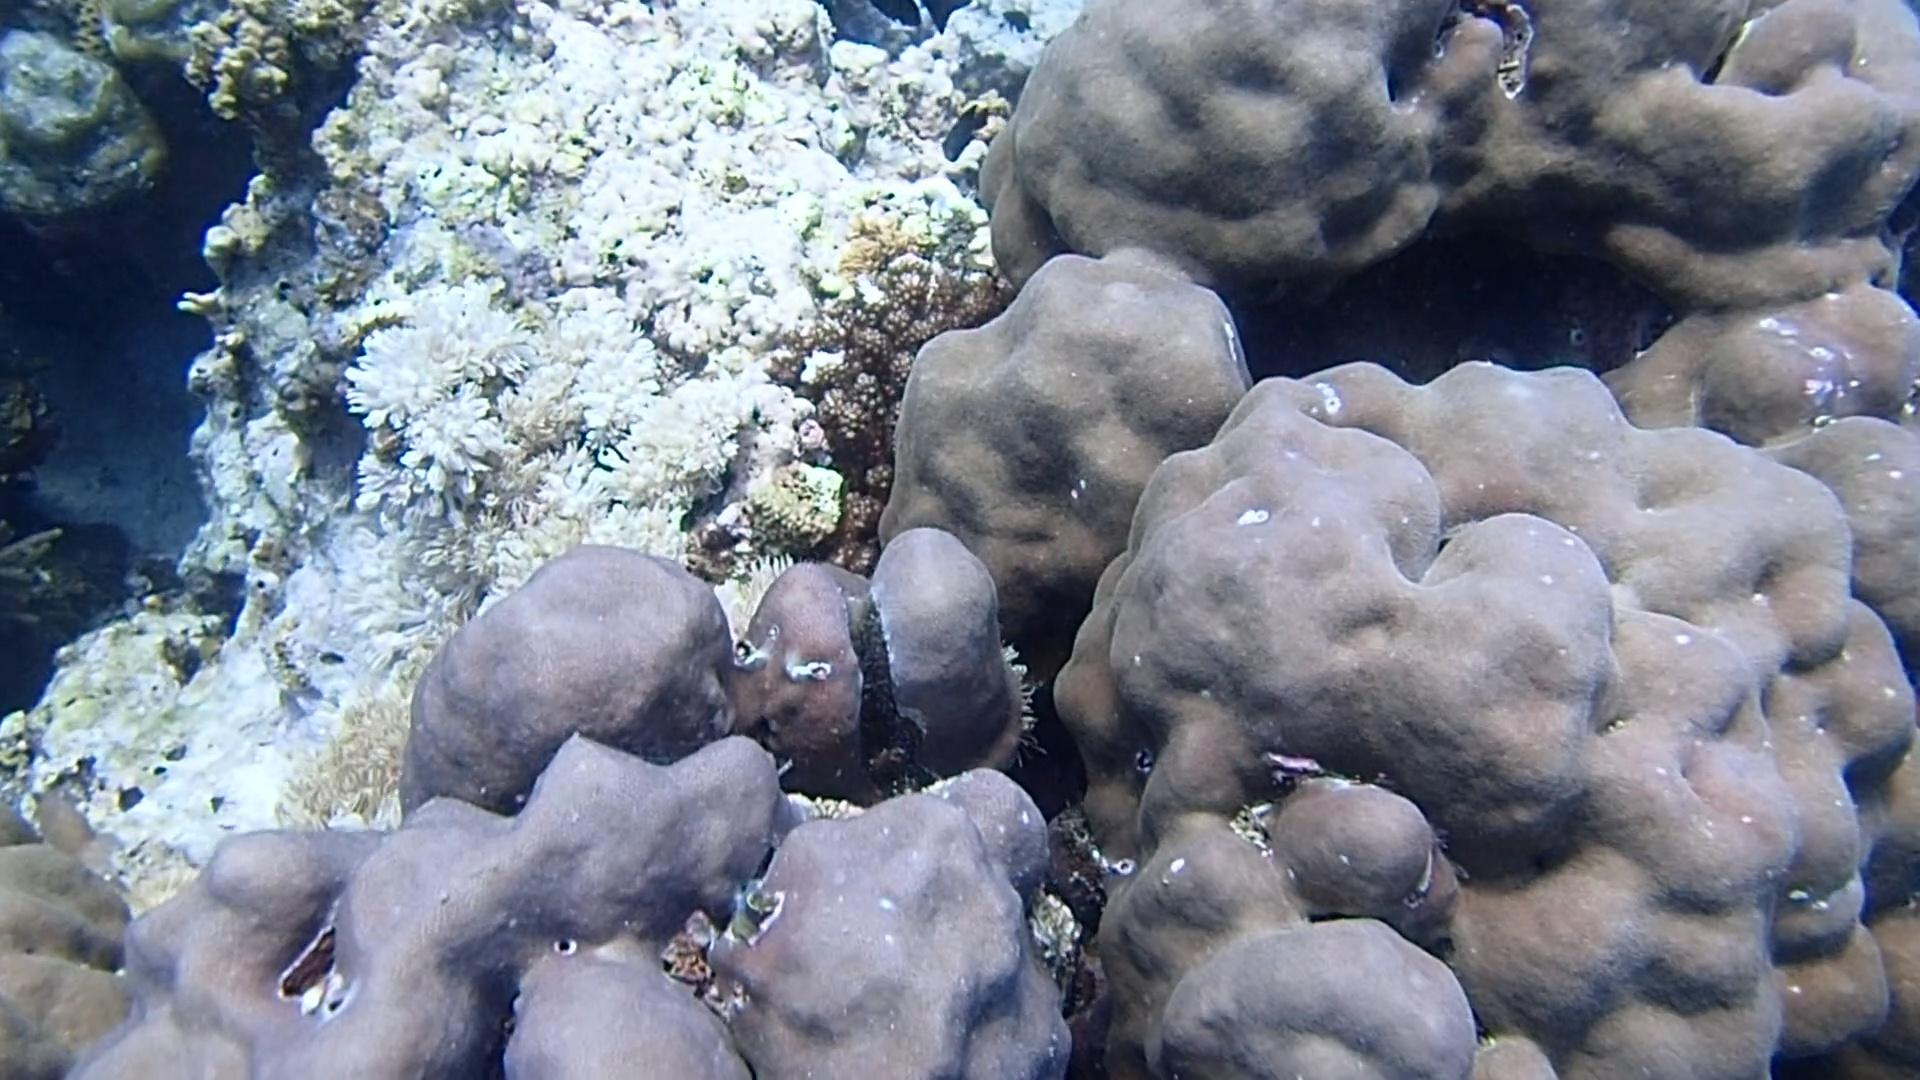Dark Fish: (931, 94, 997, 166), (1000, 4, 1036, 37)
